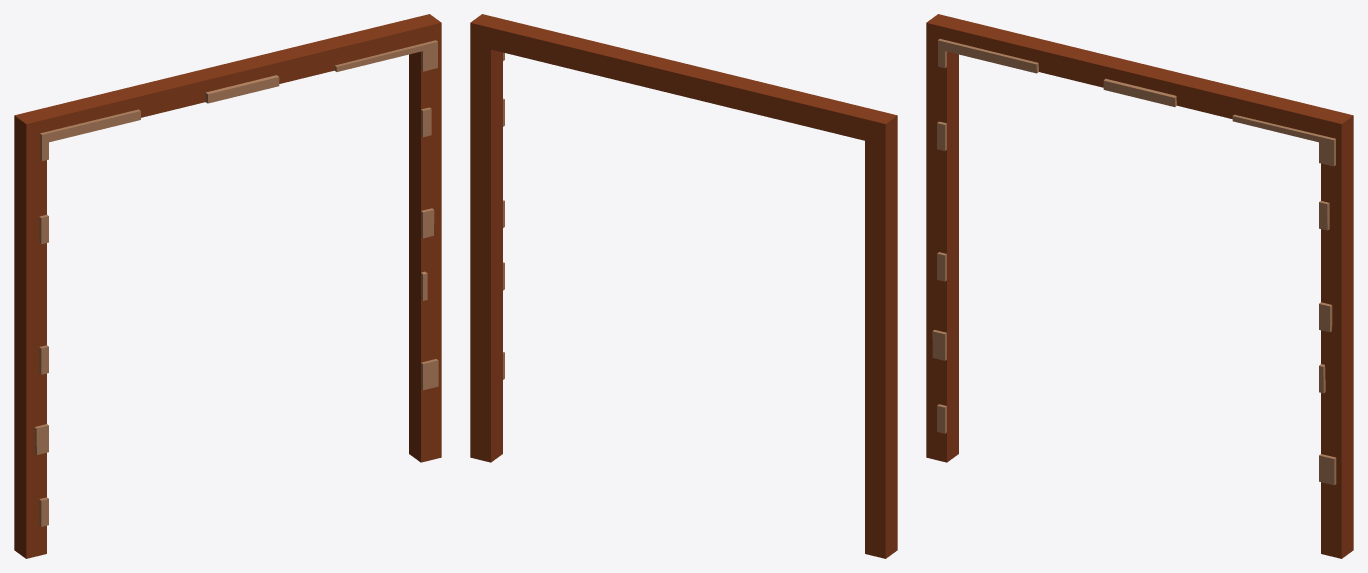
Rendered from BrickV2GarageFrame.fbx.
The picture shows the model from 3 angles, left to right: view 1: azimuth 30°, elevation 25°; view 2: azimuth 150°, elevation 25°; view 3: azimuth 330°, elevation 25°; orthographic projection.
Visible parts, largest first — view 1: BrickV2GarageFrame; view 2: BrickV2GarageFrame; view 3: BrickV2GarageFrame.
Boxes of the visible parts, x1,y1,x2,y2 form: BrickV2GarageFrame: [14, 14, 441, 558]; BrickV2GarageFrame: [470, 14, 897, 558]; BrickV2GarageFrame: [926, 14, 1353, 558].
Bounding box in the file's own units: 200 × 200 × 11.75.
